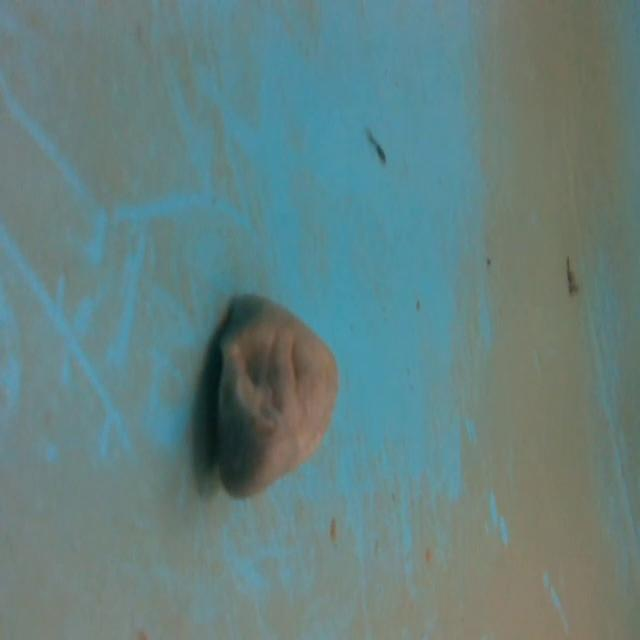rock: (206, 288, 346, 508)
